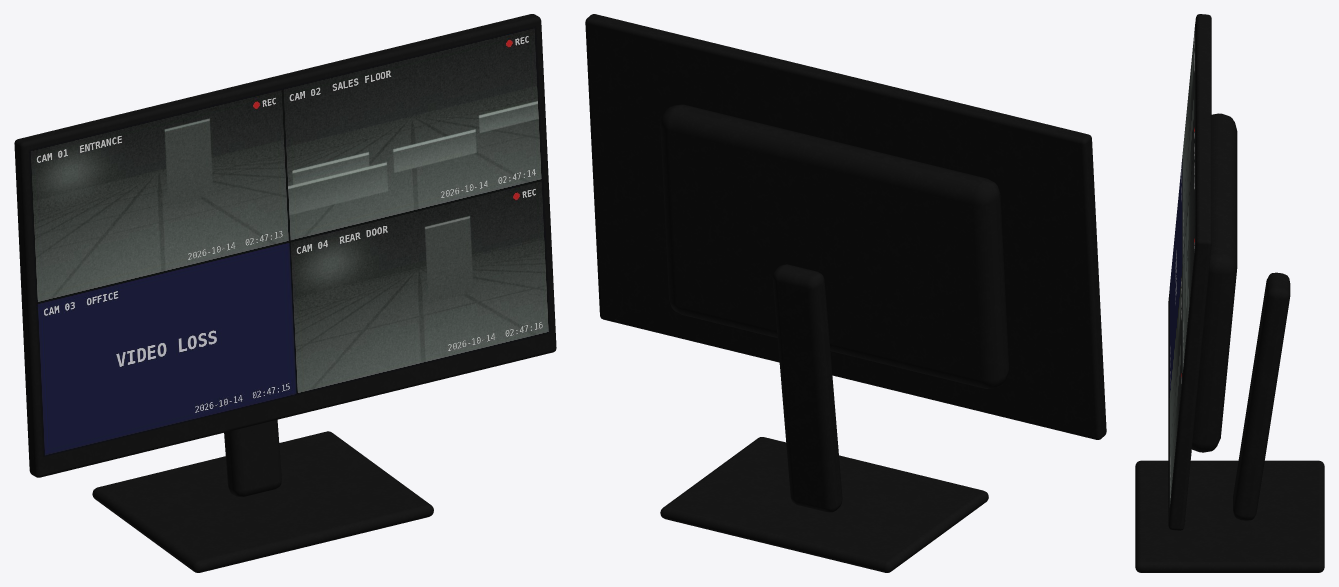
Rendered from SecurityMonitor.obj.
The picture shows the model from 3 angles, left to right: view 1: azimuth 30°, elevation 25°; view 2: azimuth 150°, elevation 25°; view 3: azimuth 270°, elevation 25°; orthographic projection. The views are drawn at different scales.
Parts seen in each view (by area): view 1: Screen, Housing; view 2: Housing; view 3: Housing, Screen.
Part boxes in pixels (<box>): Screen: <box>28,26,550,457</box>; Housing: <box>14,14,556,572</box>; Housing: <box>585,14,1106,572</box>; Housing: <box>1135,14,1324,572</box>; Screen: <box>1169,24,1195,507</box>.
Bounding box in the file's own units: 0.541 × 0.4377 × 0.19.
Materials: 2 (2 with a texture image).
